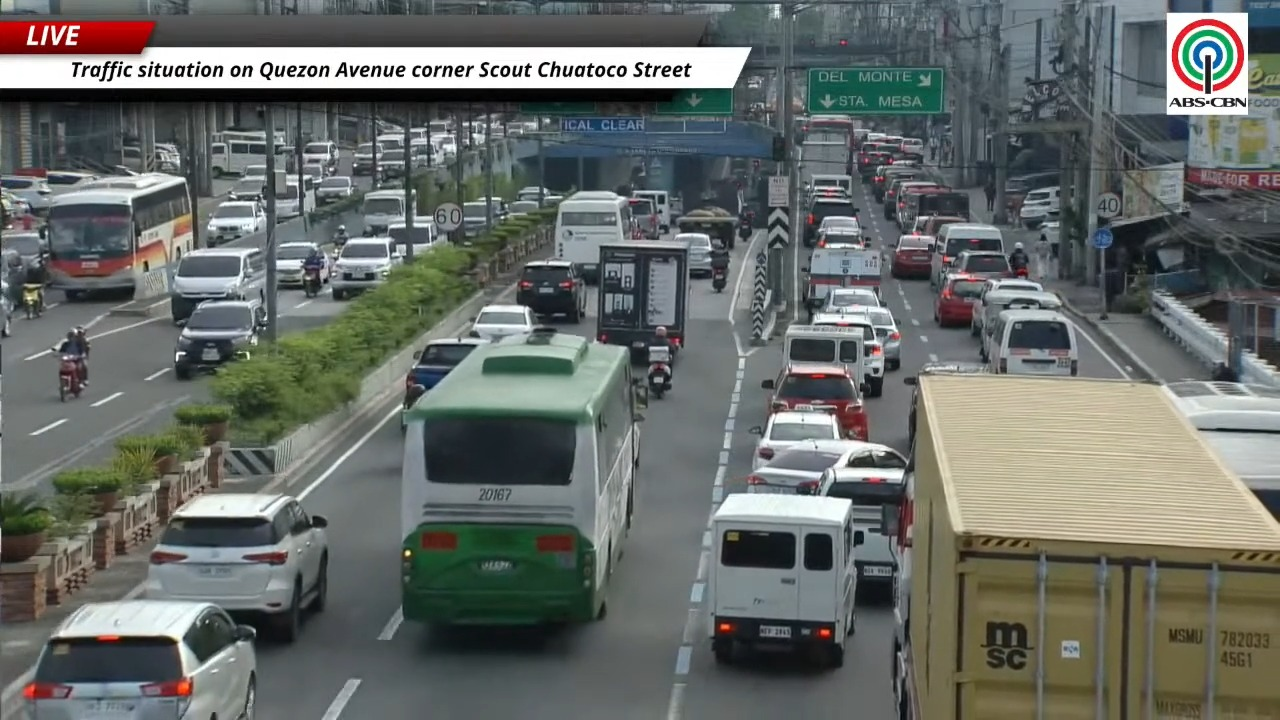bus: (401, 328, 646, 624), (44, 173, 193, 300), (554, 191, 631, 283), (209, 140, 266, 176), (802, 115, 857, 146), (210, 129, 266, 143)
car: (20, 600, 258, 719), (143, 493, 329, 641), (761, 363, 868, 438), (174, 297, 266, 379), (903, 361, 987, 446), (746, 439, 871, 494), (810, 306, 885, 396), (403, 337, 486, 410), (750, 411, 843, 469), (516, 259, 586, 322), (330, 237, 399, 299), (971, 277, 1042, 336), (406, 337, 486, 389), (893, 180, 950, 230), (205, 200, 266, 246), (802, 196, 857, 246), (934, 273, 984, 326), (861, 307, 901, 369), (469, 304, 536, 341), (276, 241, 330, 286), (882, 174, 934, 220), (0, 175, 53, 215), (891, 234, 934, 278), (871, 165, 922, 202), (0, 231, 47, 271), (1019, 186, 1060, 230), (951, 250, 1011, 279), (673, 232, 712, 276), (819, 288, 880, 312), (857, 145, 891, 183), (815, 225, 867, 248), (315, 175, 354, 203), (916, 215, 968, 236), (352, 142, 383, 175), (0, 191, 31, 221), (227, 177, 265, 201), (1038, 219, 1059, 257), (818, 216, 861, 234), (0, 280, 13, 337), (302, 161, 327, 183), (241, 164, 266, 183), (900, 137, 923, 153)
motorcycle: (647, 345, 671, 398), (58, 355, 82, 401), (22, 283, 43, 319), (303, 268, 322, 297), (711, 267, 726, 292), (738, 217, 753, 240), (333, 233, 349, 247), (1014, 266, 1029, 279)
truck: (882, 374, 1279, 719), (597, 241, 690, 363), (801, 241, 882, 311)
